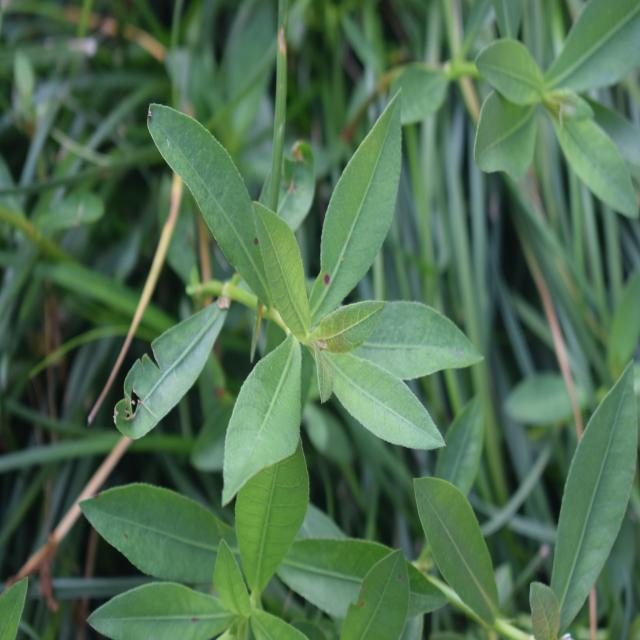Alligatorweed: (150, 88, 437, 509)
